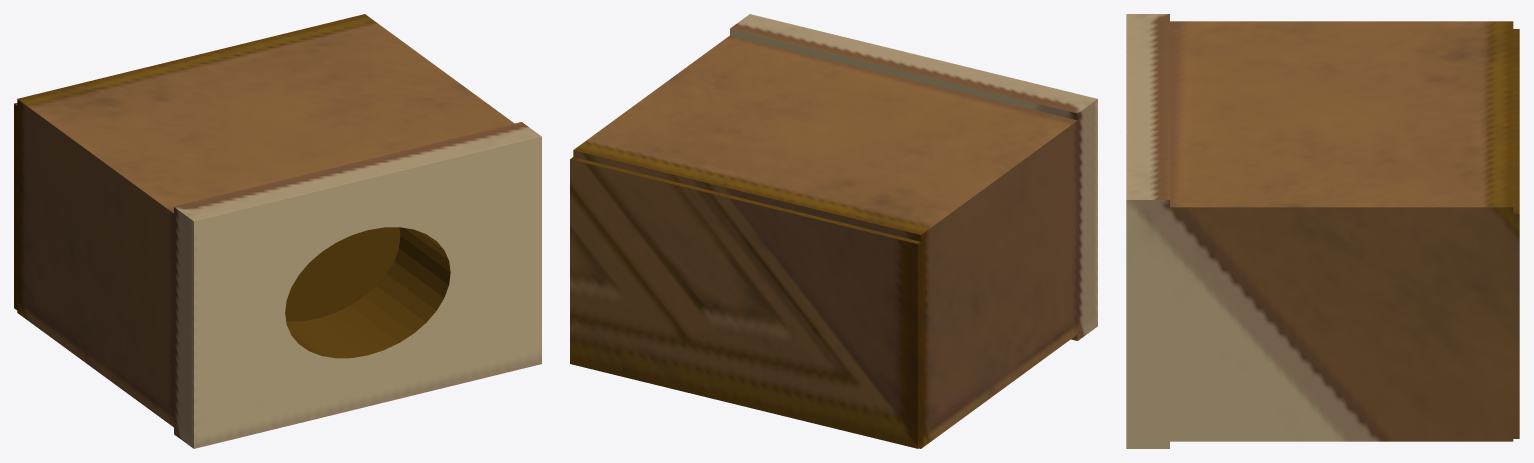
The model's file is pz_counter_trailer_floor__sink_inset_oval.obj.
The picture shows the model from 3 angles, left to right: view 1: azimuth 30°, elevation 25°; view 2: azimuth 150°, elevation 25°; view 3: azimuth 270°, elevation 25°; orthographic projection. The views are drawn at different scales.
Size of the model in its own units: 1 by 0.625 by 0.895.
1 material, 1 textured.
